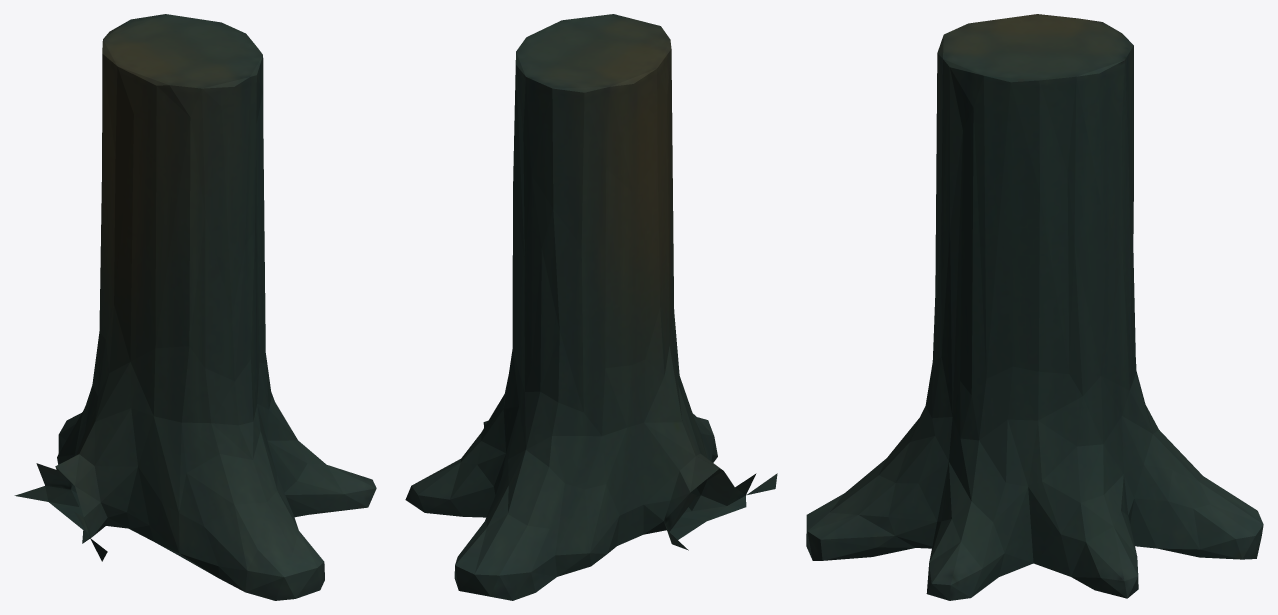
3 views of the same model, side by side, from view 1: azimuth 30°, elevation 25°; view 2: azimuth 150°, elevation 25°; view 3: azimuth 270°, elevation 25° (orthographic). The views are drawn at different scales.
Visible parts, largest first — view 1: geometry_0.028_Baked; view 2: geometry_0.028_Baked; view 3: geometry_0.028_Baked.
Boxes of the visible parts, x1,y1,x2,y2 form: geometry_0.028_Baked: (14,14,376,600); geometry_0.028_Baked: (405,14,777,600); geometry_0.028_Baked: (806,14,1263,600).
Bounding box in the file's own units: 12.85 × 20.25 × 16.84.
